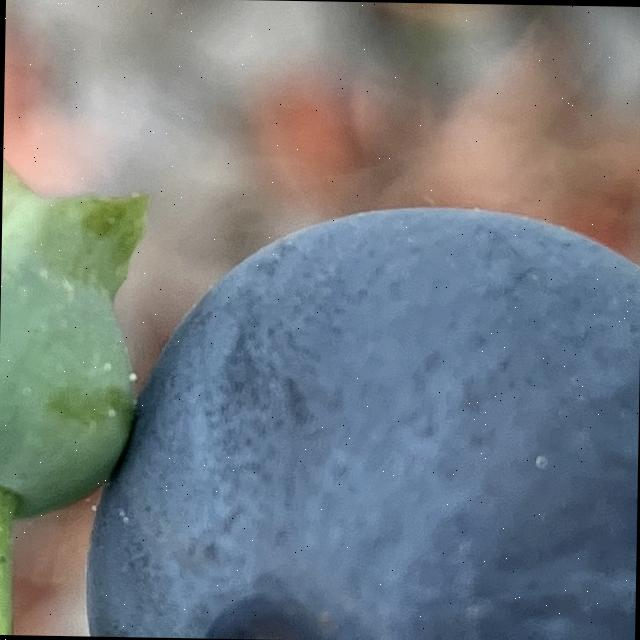Blueberries: (81, 191, 640, 640), (0, 108, 175, 549)
